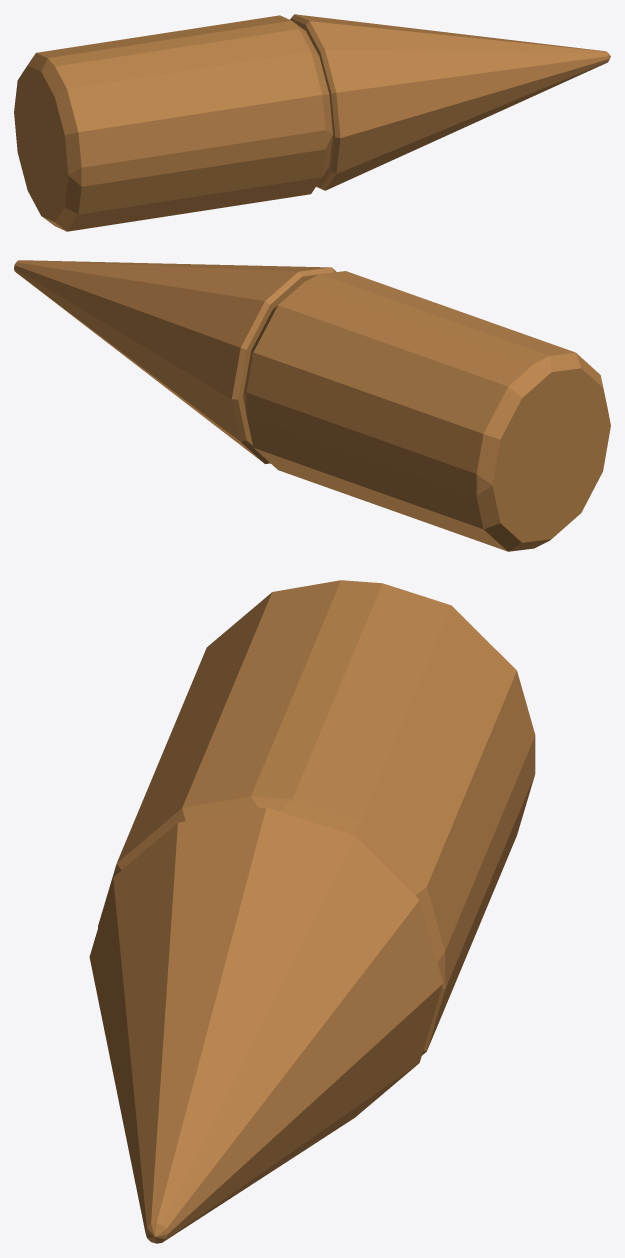
Rendered from AuxAmmoRifleProjectile_Ground.fbx.
3 views of the same model, one above another, from view 1: azimuth 30°, elevation 25°; view 2: azimuth 150°, elevation 25°; view 3: azimuth 270°, elevation 25° (orthographic). The views are drawn at different scales.
Parts seen in each view (by area): view 1: AuxAmmoRifleProjectile_Ground_GameExport; view 2: AuxAmmoRifleProjectile_Ground_GameExport; view 3: AuxAmmoRifleProjectile_Ground_GameExport.
Part boxes in pixels (<box>): AuxAmmoRifleProjectile_Ground_GameExport: <box>14,14,610,231</box>; AuxAmmoRifleProjectile_Ground_GameExport: <box>14,260,610,551</box>; AuxAmmoRifleProjectile_Ground_GameExport: <box>89,580,535,1243</box>.
Size of the model in its own units: 2.82 by 1.03 by 0.8295.
